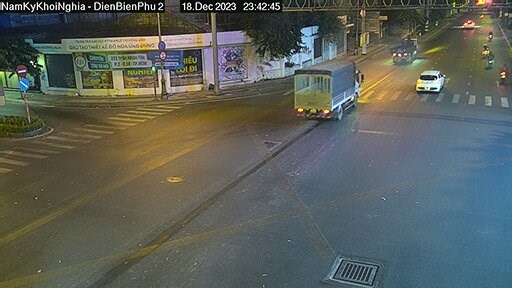car: (412, 67, 449, 101)
truck: (286, 55, 372, 121), (391, 38, 417, 63)
